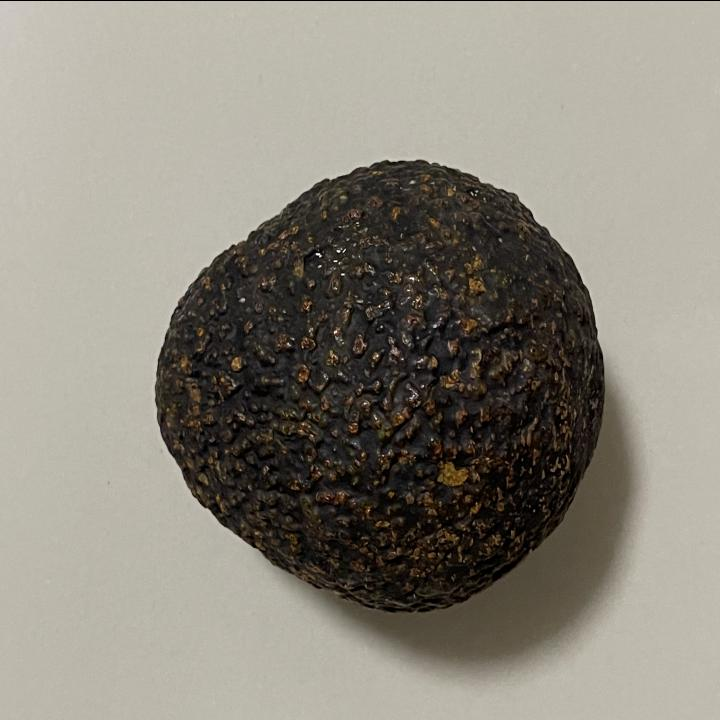Level2: (144, 150, 610, 622)
